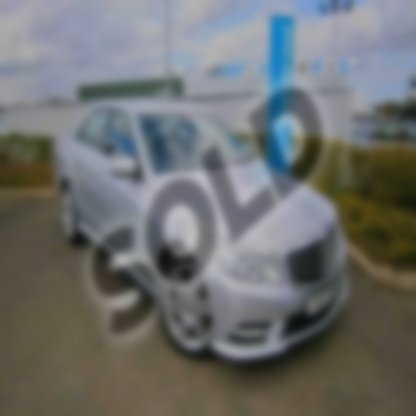Vehicle: (53, 98, 350, 365)
